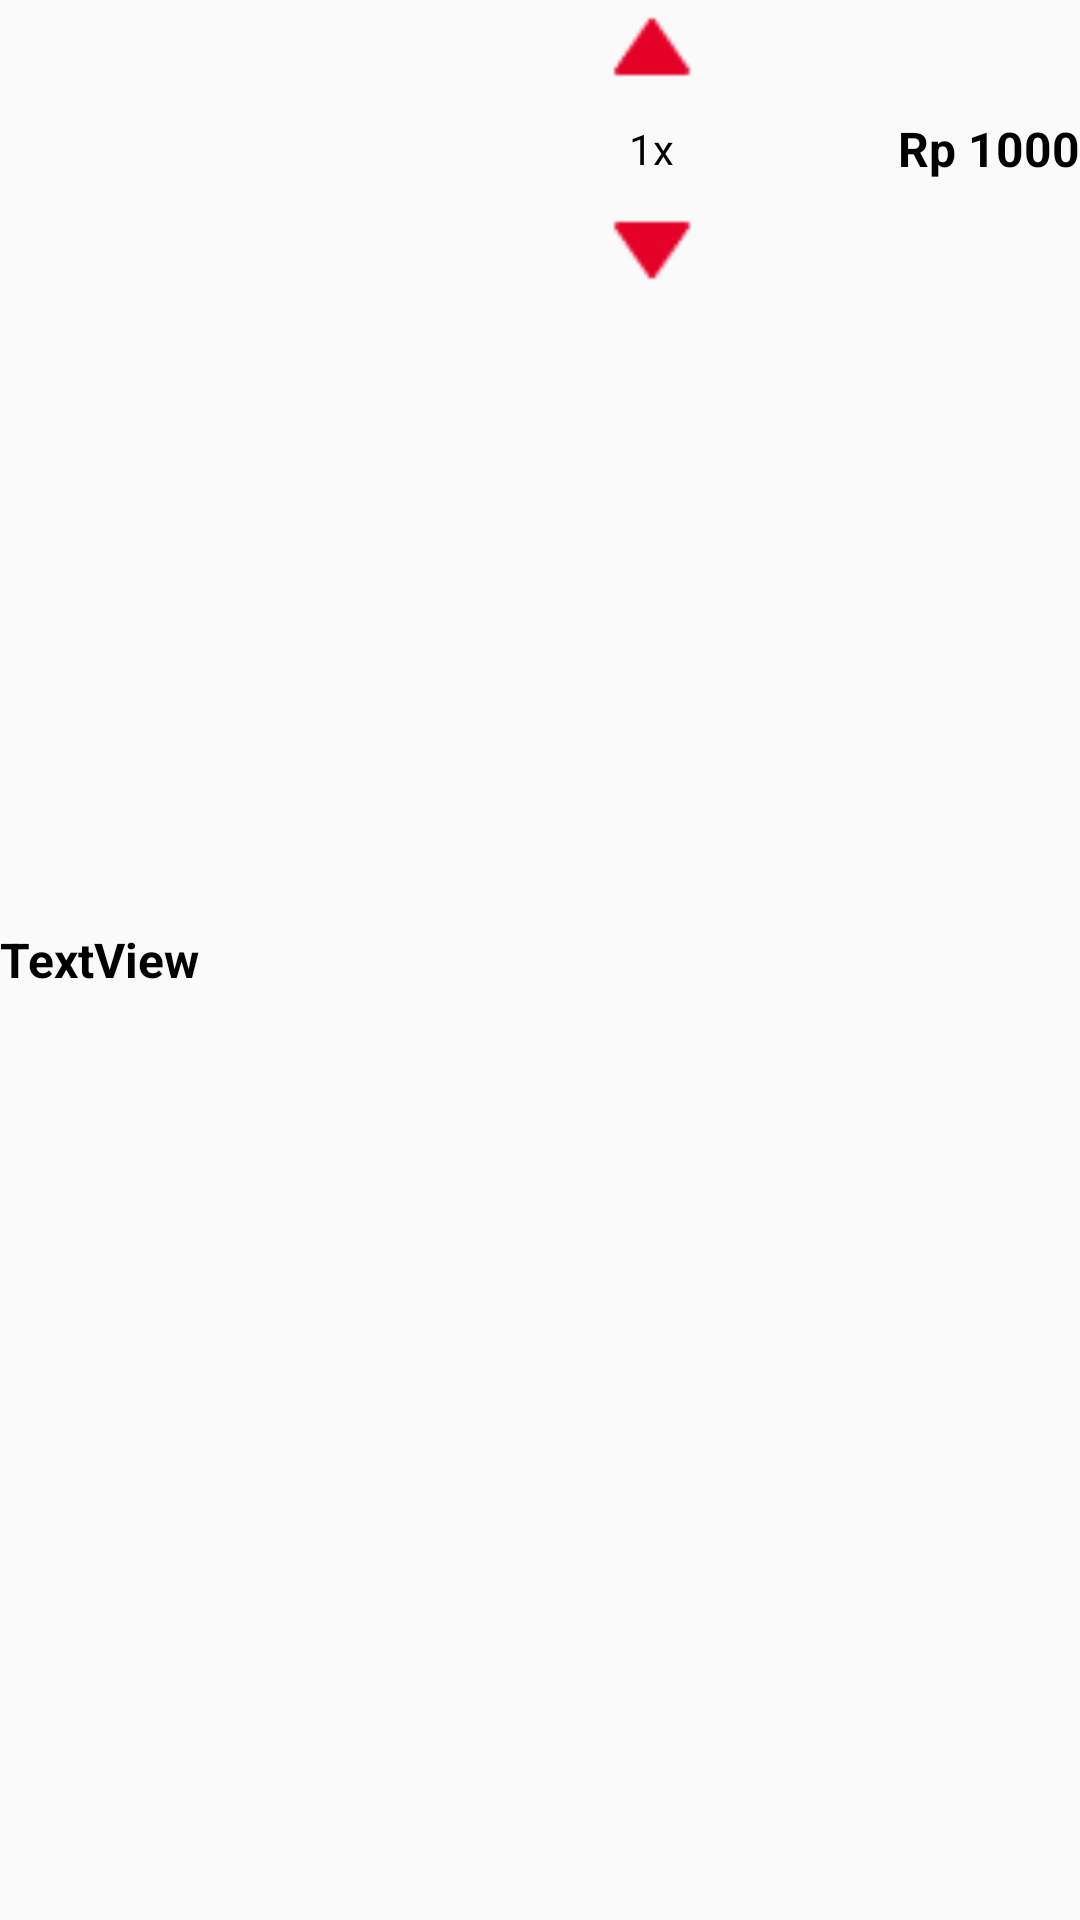

Where icons sit on this 1080×1920 app screen, as (x1, y1, x2, y2):
plus qty: (613, 17, 691, 77)
